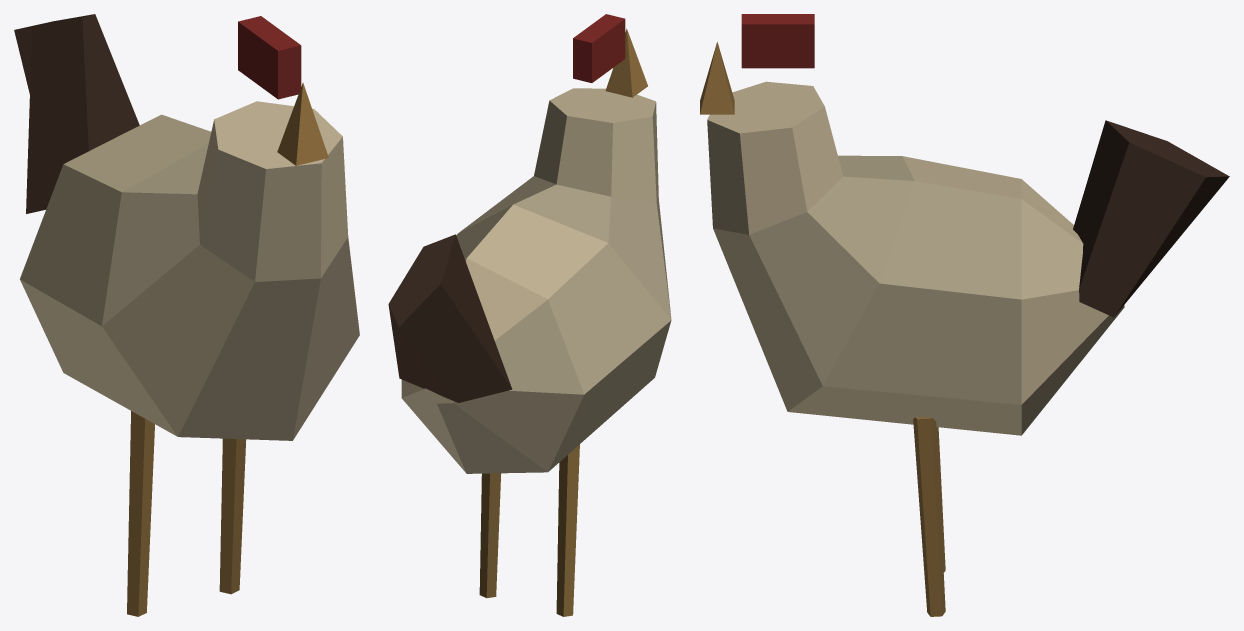
The model's file is walk_animal_chicken.glb.
3 renders of one model, left to right at view 1: azimuth 30°, elevation 25°; view 2: azimuth 150°, elevation 25°; view 3: azimuth 270°, elevation 25°, orthographic. The views are drawn at different scales.
Visible parts, largest first — view 1: walk_animal_chicken; view 2: walk_animal_chicken; view 3: walk_animal_chicken.
Boxes of the visible parts, x1,y1,x2,y2 form: walk_animal_chicken: (14,14,359,616); walk_animal_chicken: (388,14,671,616); walk_animal_chicken: (700,14,1229,616).
Size of the model in its own units: 0.2091 by 0.5204 by 0.4352.
Materials: 2 (2 with a texture image).
